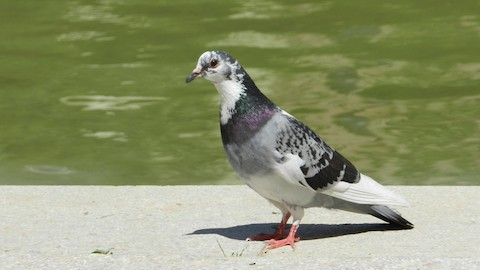pigeon: (184, 47, 418, 248)
